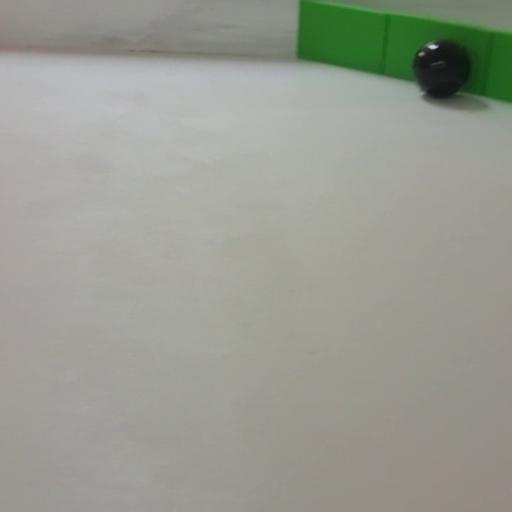dead: (410, 38, 472, 100)
